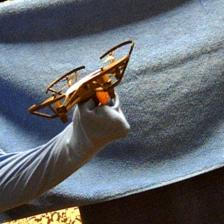drone: (27, 39, 137, 126)
